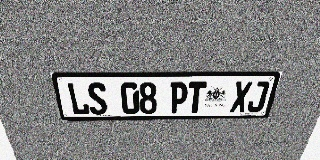0: (120, 82, 139, 114)
8: (139, 82, 157, 114)
J: (246, 81, 270, 112)
L: (66, 82, 90, 115)
P: (169, 82, 188, 114)
S: (86, 82, 108, 115)
T: (186, 82, 207, 113)
X: (229, 81, 253, 113)
